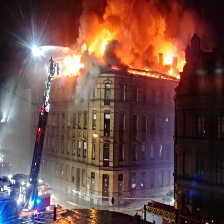fire: (59, 34, 184, 80)
smoke: (73, 1, 188, 44)
